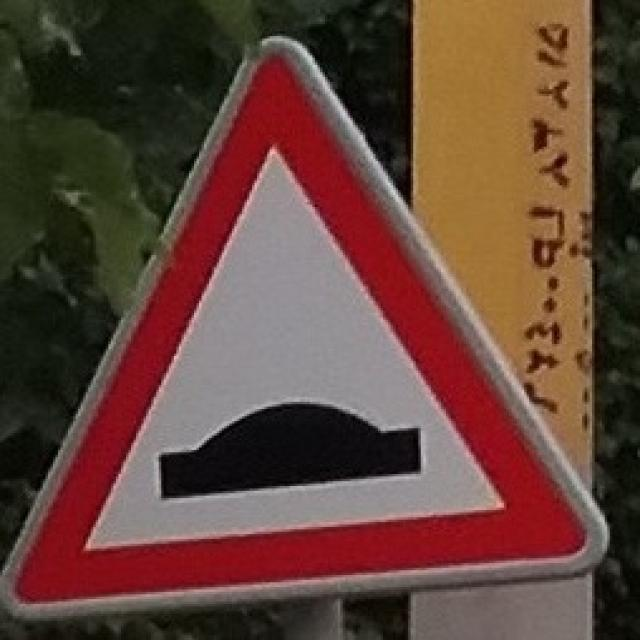HUMP_OR_ROUGH_ROAD: (12, 41, 610, 622)
